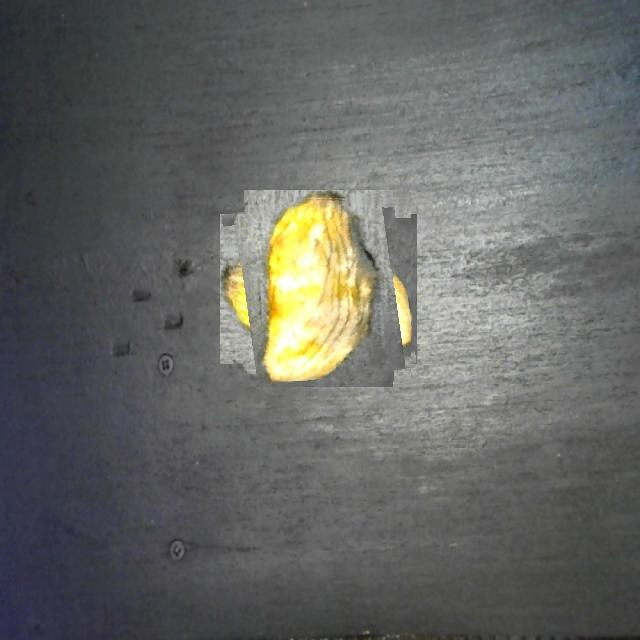biodegradable: (226, 197, 411, 381)
